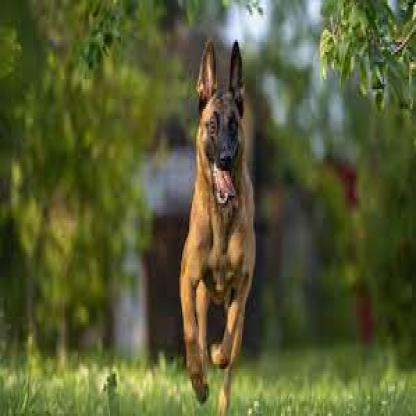dog: (177, 34, 257, 414)
